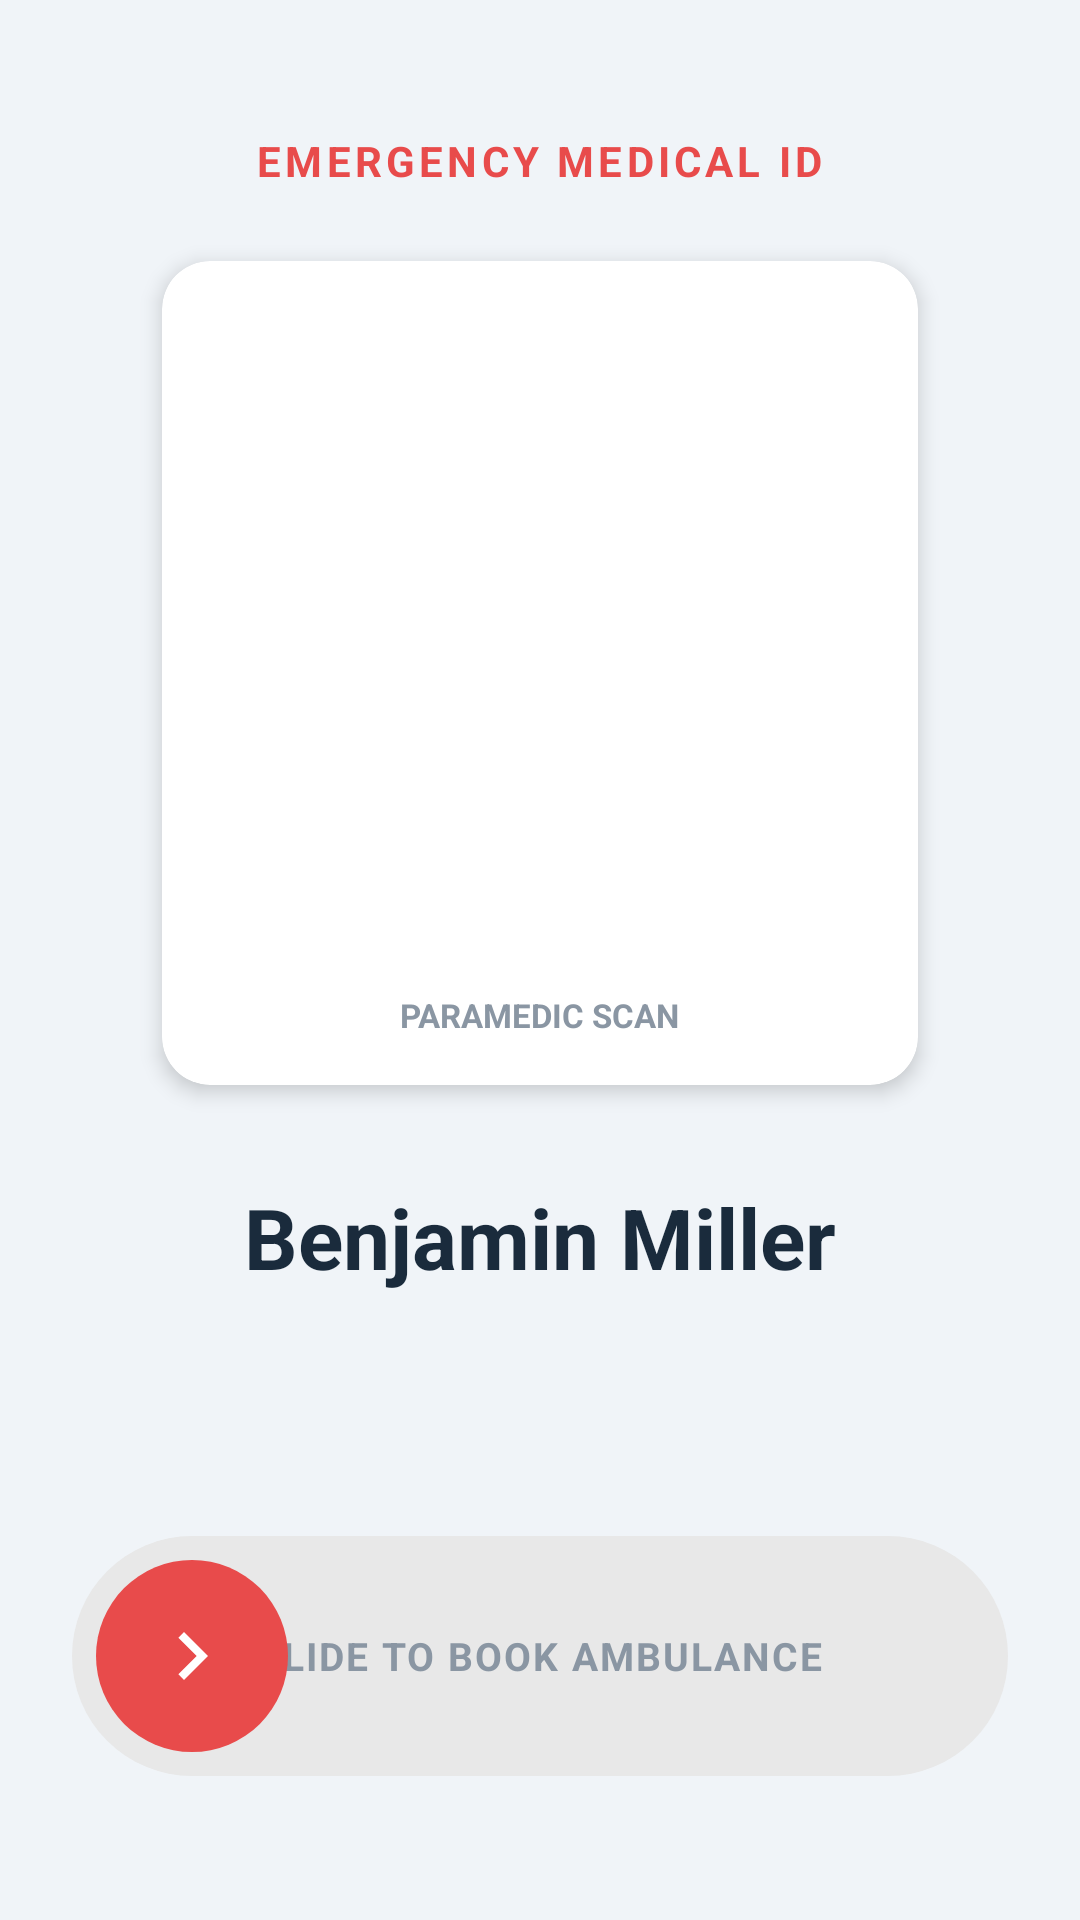

Locate icon controls on the screen. Image size 1080x1920, boxes as (x1, y1, x2, y2).
Slide handle: (178, 1632, 208, 1680)
